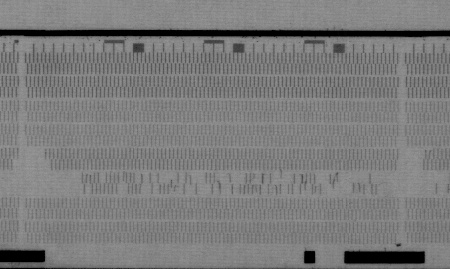Broken hole: (1, 169, 450, 198), (12, 147, 53, 171), (406, 148, 427, 170)
Oblique printing: (425, 146, 436, 158)
